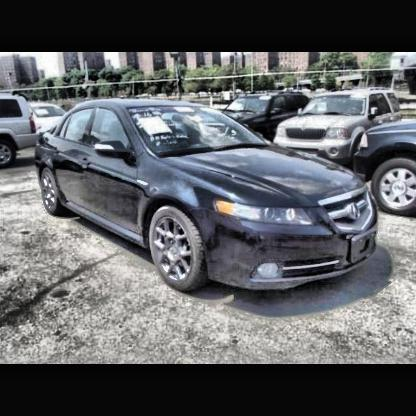Acura TL Type-S 2008: (34, 99, 383, 296)
